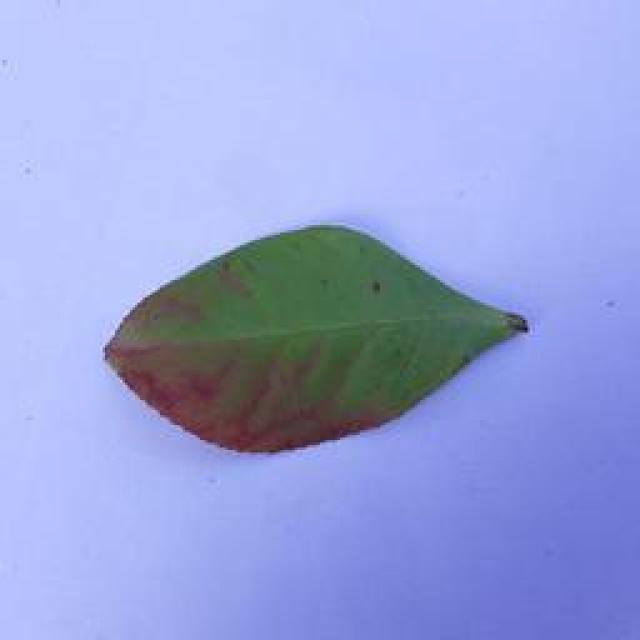Red Leaf Spot: (91, 216, 541, 466)
